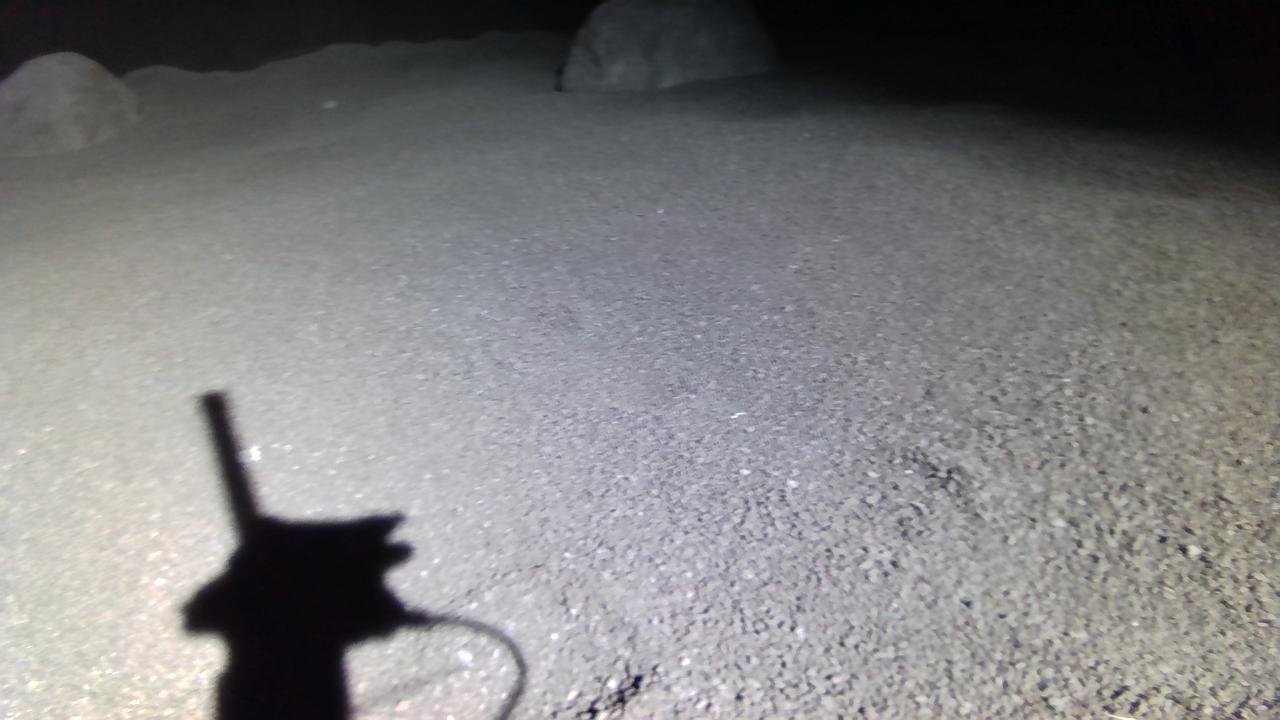rock: (560, 0, 778, 89)
